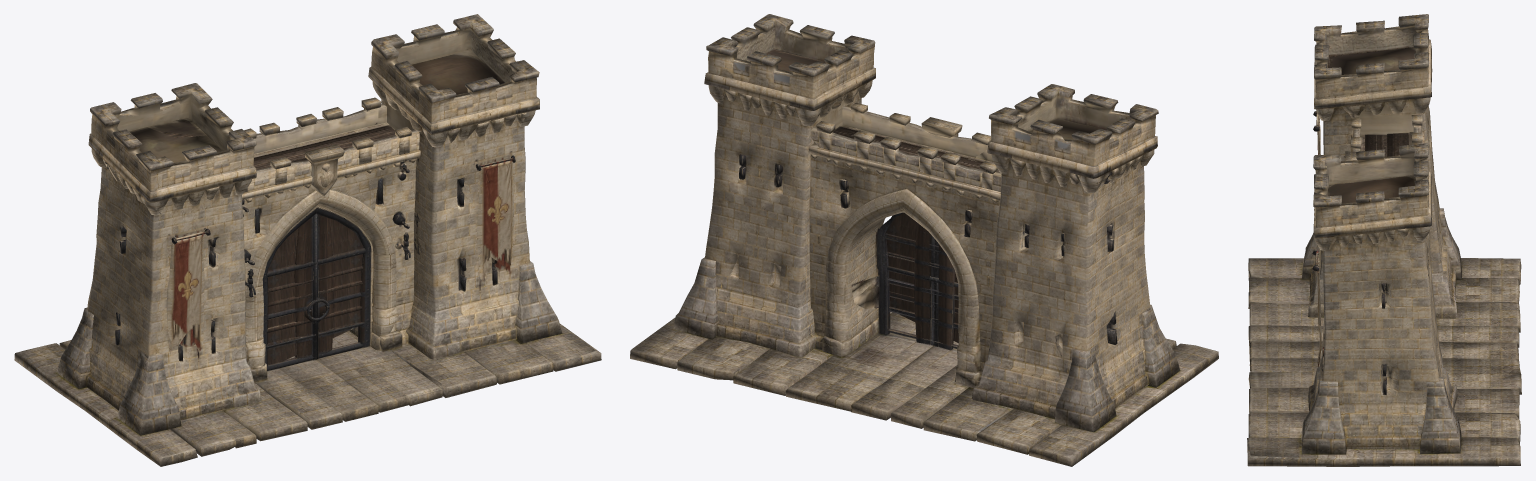
File: Meshy_AI_model.glb
3 renders of one model, left to right at view 1: azimuth 30°, elevation 25°; view 2: azimuth 150°, elevation 25°; view 3: azimuth 270°, elevation 25°, orthographic. The views are drawn at different scales.
Bounding box in the file's own units: 1 × 0.6158 × 0.5795.
1 material, 1 textured.
